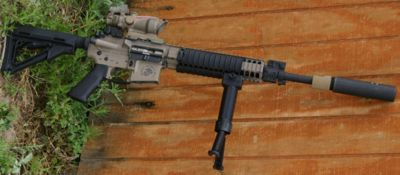rifle: (9, 15, 393, 169)
